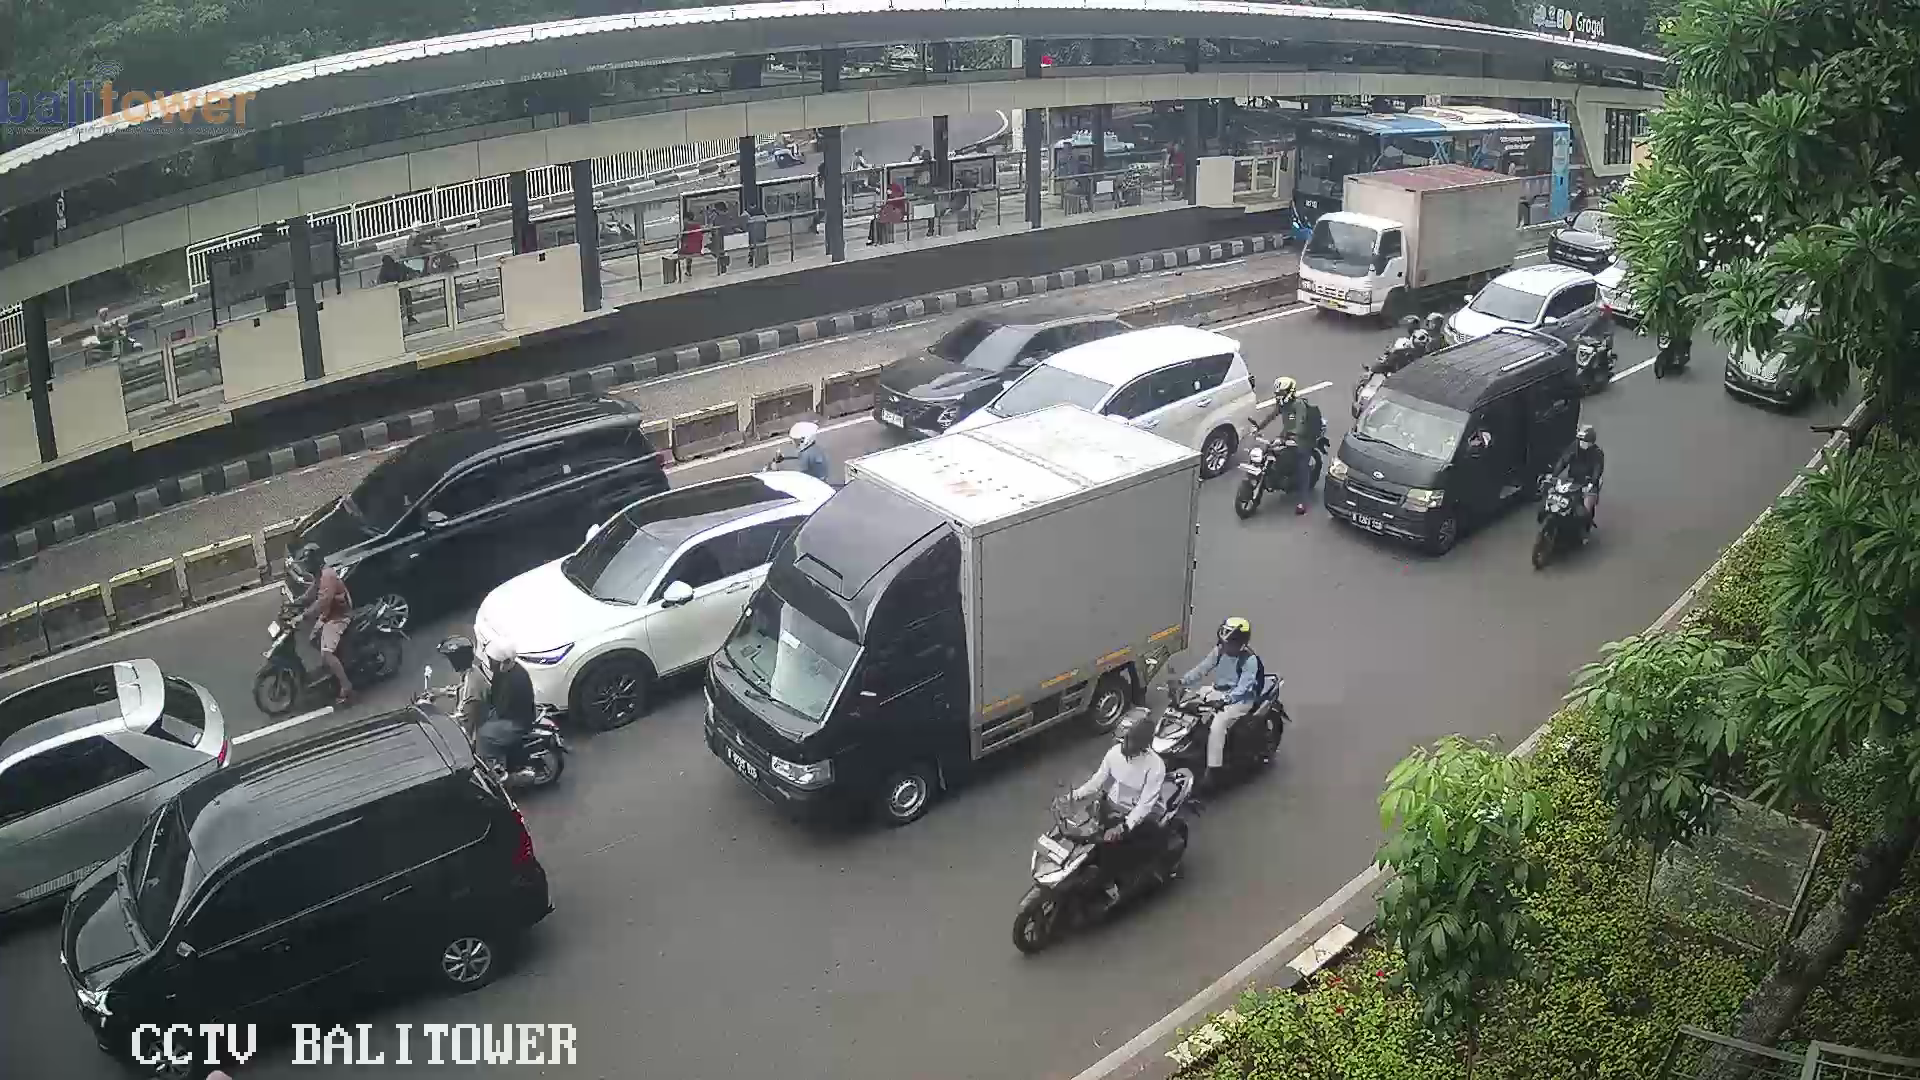full-face helmet: (786, 416, 825, 463), (1272, 376, 1300, 414)
half-face helmet: (1110, 706, 1163, 769), (1208, 606, 1263, 657), (286, 531, 339, 580), (433, 635, 480, 680), (480, 637, 531, 673), (1570, 412, 1610, 455)
